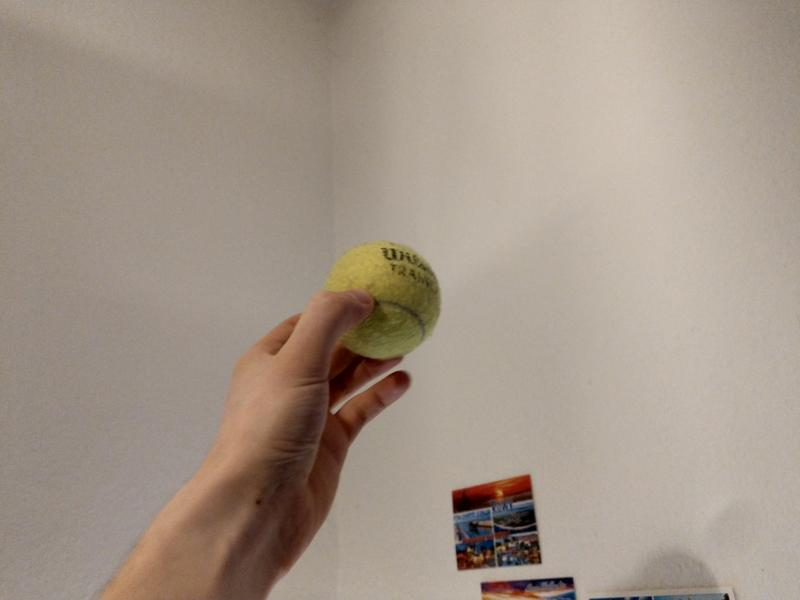Tennisball: (317, 239, 446, 363)
